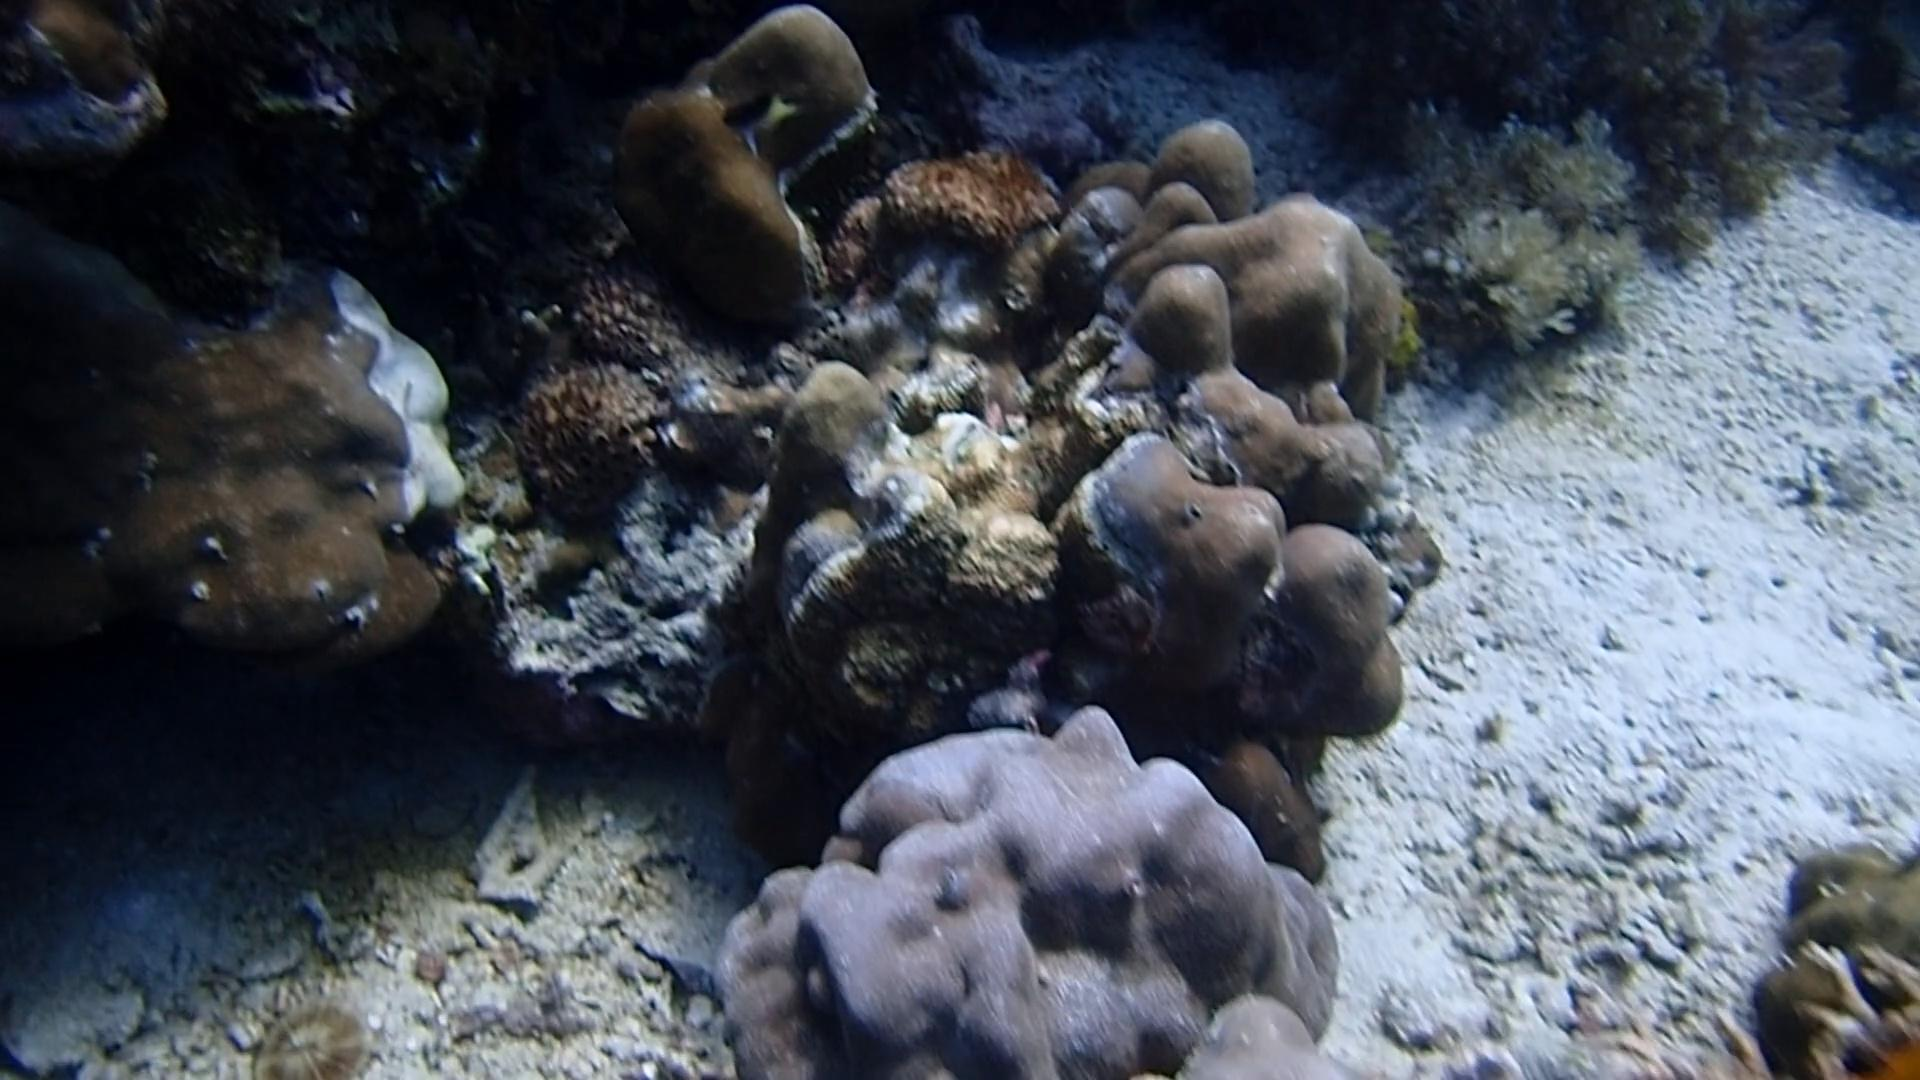Yellow Tail: (709, 79, 824, 156)
